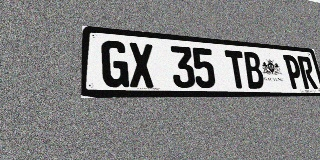3: (170, 46, 196, 88)
5: (192, 47, 217, 88)
B: (242, 51, 265, 89)
G: (101, 40, 129, 88)
P: (283, 55, 304, 89)
R: (297, 56, 318, 89)
T: (224, 50, 248, 89)
X: (128, 42, 155, 88)
